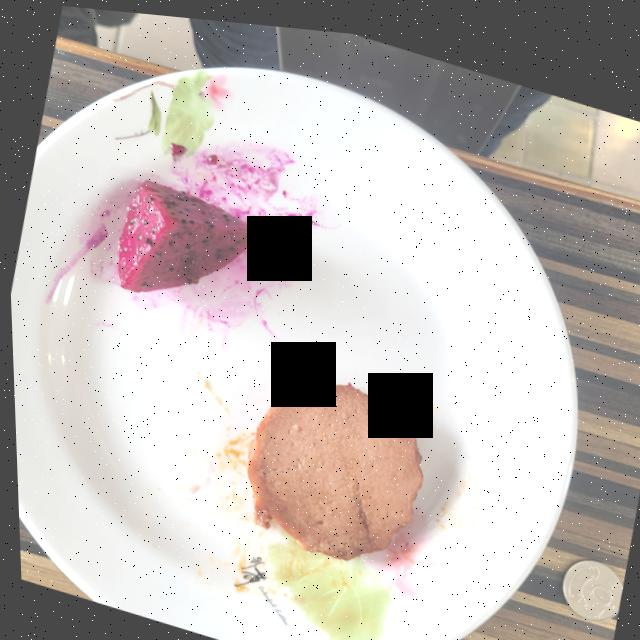Spam: (242, 375, 419, 553)
coin: (557, 548, 618, 609)
